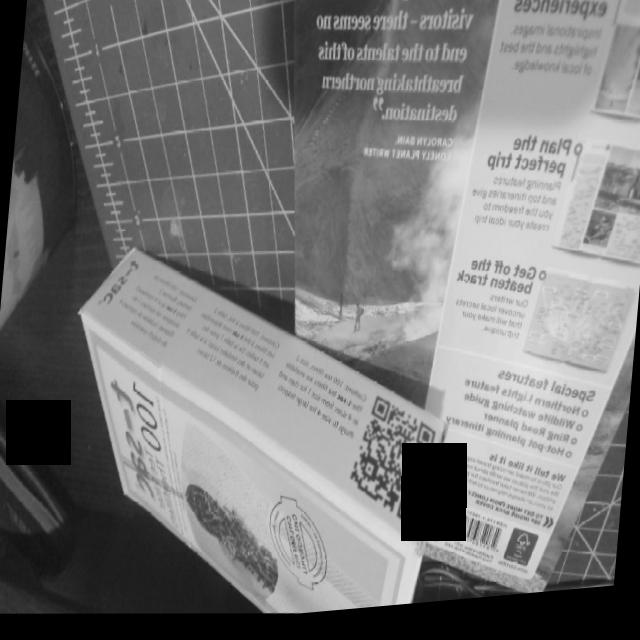QR_CODE: (338, 386, 446, 551)
